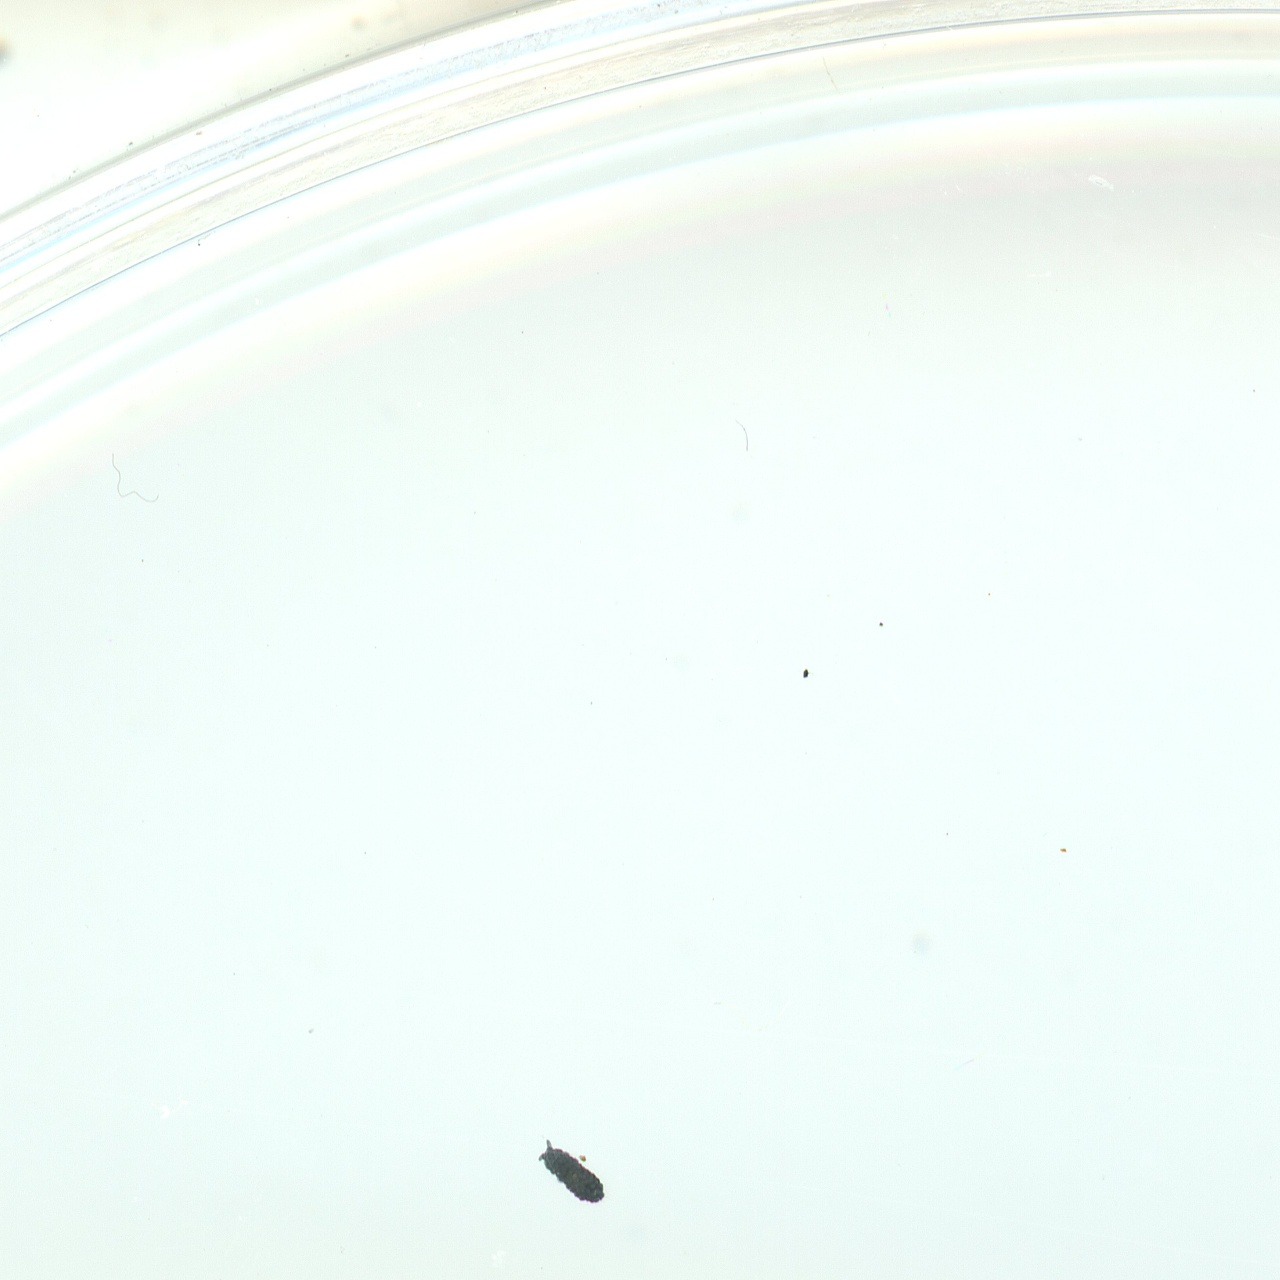arthropod: (536, 1137, 606, 1206)
